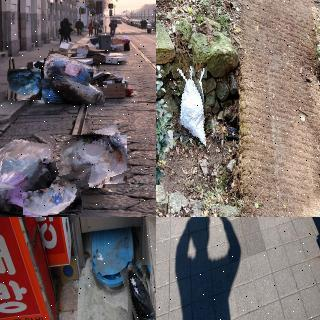Garbage: (44, 129, 130, 194), (166, 62, 214, 155), (0, 134, 58, 191), (21, 175, 82, 217), (123, 264, 155, 320), (50, 76, 107, 105), (43, 54, 94, 83), (7, 68, 42, 101)
